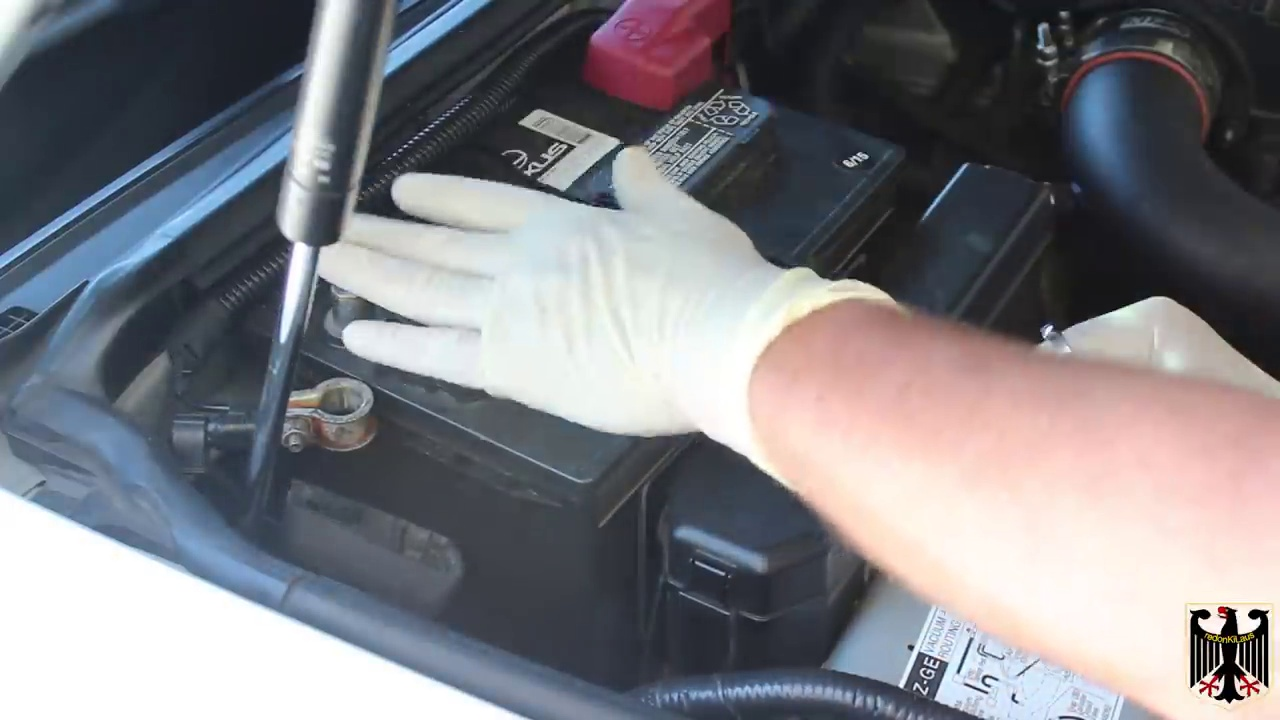battery: (239, 29, 896, 517)
neg_touched: (242, 243, 406, 456)
pos_connected: (555, 11, 772, 119)
